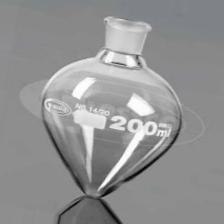Pear shaped flask: (34, 12, 186, 199)
